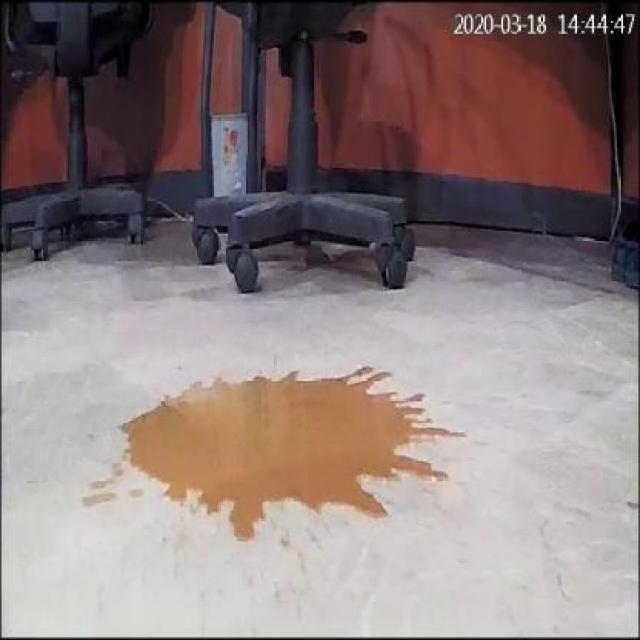spill: (122, 356, 468, 558)
